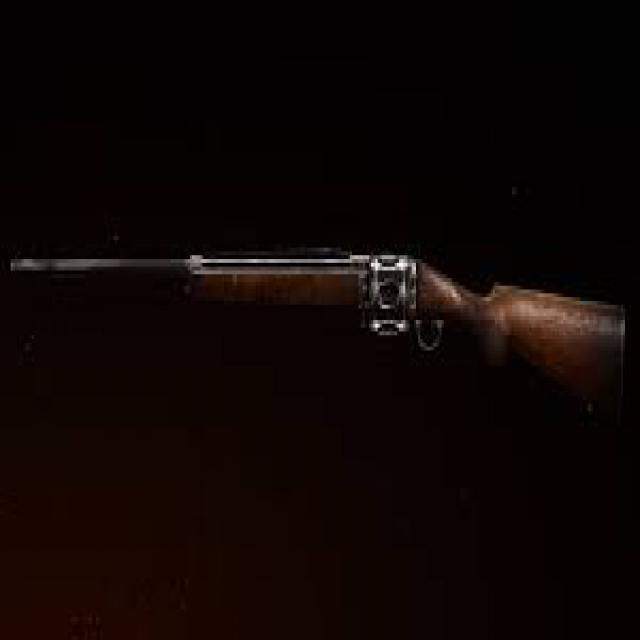long weapon: (8, 211, 631, 399)
